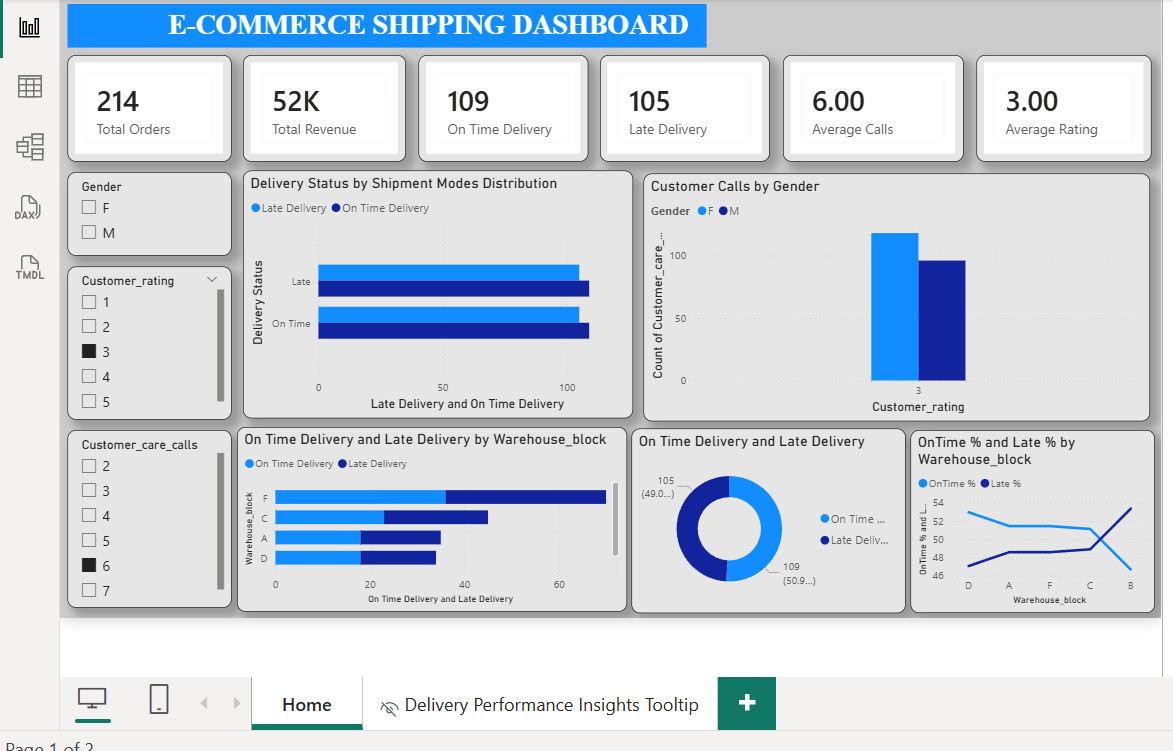

This screenshot's page, from the dashboard's own definition file:
{"tool":"powerbi","page":{"name":"Home","canvas":[1280,720],"ordinal":0},"visuals":[{"type":"cardVisual","fields":{"Data":["in.Total Orders"]},"box":[9.5,66.8,190.9,124.1],"z":0},{"type":"textbox","box":[9.5,6.4,742.8,50.9],"z":1000},{"type":"cardVisual","fields":{"Data":["in.Total Revenue"]},"box":[213.1,66.8,189.3,124.1],"z":2000},{"type":"cardVisual","fields":{"Data":["in.On Time Delivery"]},"box":[416.7,66.8,197.2,124.1],"z":3000},{"type":"cardVisual","fields":{"Data":["in.Late Delivery"]},"box":[628.3,66.8,197.2,124.1],"z":4000},{"type":"cardVisual","fields":{"Data":["in.Average Calls"]},"box":[839.8,66.8,210,124.1],"z":5000},{"type":"cardVisual","fields":{"Data":["in.Average Rating"]},"box":[1065.7,66.8,203.6,124.1],"z":6000},{"type":"slicer","fields":{"Values":["in.Gender"]},"box":[9.5,202,190.9,97],"z":7000},{"type":"slicer","fields":{"Values":["in.Customer_rating"]},"box":[9.5,311.8,190.9,178.1],"z":8000},{"type":"slicer","fields":{"Values":["in.Customer_care_calls"]},"box":[9.5,502.6,190.9,206.8],"z":9000},{"type":"clusteredBarChart","title":"Delivery Status by Shipment Modes Distribution","fields":{"Category":["in.Delivery Status"],"Y":["in.Late Delivery","in.On Time Delivery"]},"box":[213.1,200.4,453.3,287.9],"z":10000},{"type":"clusteredColumnChart","title":"Customer Calls by Gender","fields":{"Category":["in.Customer_rating"],"Y":["CountNonNull(in.Customer_care_calls)"],"Series":["in.Gender"]},"box":[677.6,203.6,588.5,287.9],"z":11000},{"type":"barChart","fields":{"Category":["in.Warehouse_block"],"Y":["in.On Time Delivery","in.Late Delivery"]},"box":[205.7,498.5,453.2,214.4],"z":12000},{"type":"donutChart","fields":{"Y":["in.On Time Delivery","in.Late Delivery"]},"box":[664.1,500.3,319,214.4],"z":13000},{"type":"lineChart","fields":{"Category":["in.Warehouse_block"],"Y":["in.OnTime %","in.Late %"]},"box":[988.3,502,284.1,212.7],"z":14000}]}

Visuals, with their boxes in screenshot pixels (x1, y1, x2, y2):
cardVisual - in.Total Orders: [left=57, top=52, right=224, bottom=160]
textbox: [left=57, top=0, right=705, bottom=44]
cardVisual - in.Total Revenue: [left=235, top=52, right=400, bottom=160]
cardVisual - in.On Time Delivery: [left=412, top=52, right=584, bottom=160]
cardVisual - in.Late Delivery: [left=597, top=52, right=768, bottom=160]
cardVisual - in.Average Calls: [left=781, top=52, right=964, bottom=160]
cardVisual - in.Average Rating: [left=978, top=52, right=1155, bottom=160]
slicer - in.Gender: [left=57, top=170, right=224, bottom=255]
slicer - in.Customer_rating: [left=57, top=266, right=224, bottom=421]
slicer - in.Customer_care_calls: [left=57, top=432, right=224, bottom=612]
"Delivery Status by Shipment Modes Distribution" clusteredBarChart: [left=235, top=169, right=630, bottom=420]
"Customer Calls by Gender" clusteredColumnChart: [left=640, top=171, right=1153, bottom=422]
barChart - in.Warehouse_block x in.On Time Delivery: [left=228, top=428, right=623, bottom=615]
donutChart - in.On Time Delivery x in.Late Delivery: [left=628, top=430, right=906, bottom=617]
lineChart - in.Warehouse_block x in.OnTime %: [left=910, top=431, right=1158, bottom=617]
